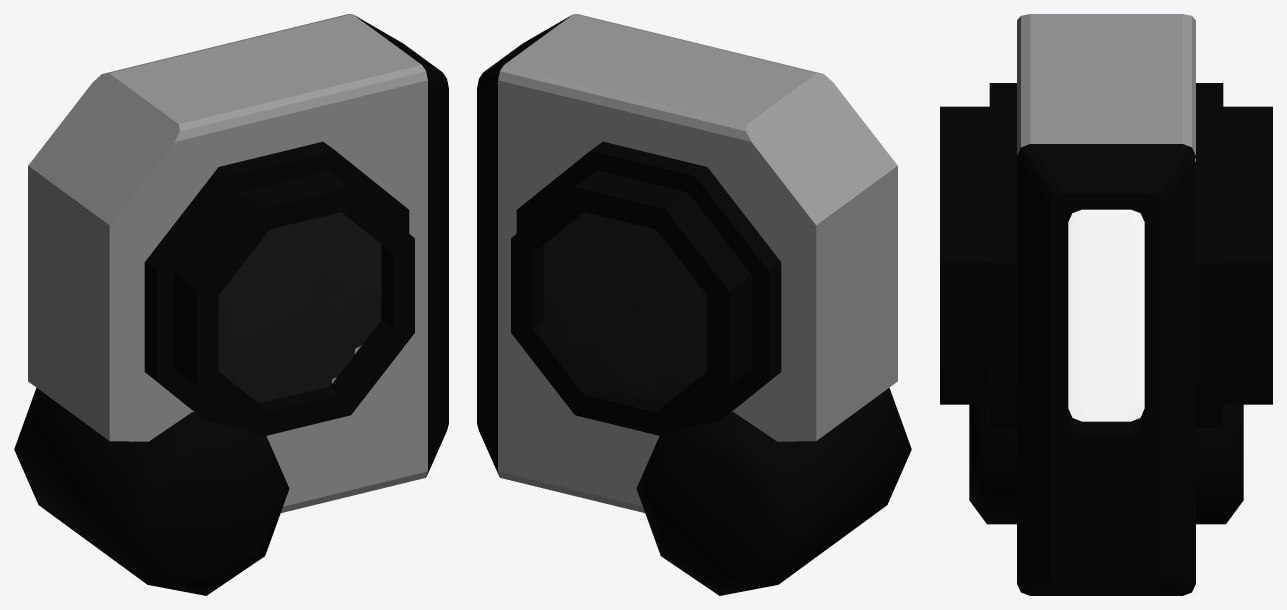
The model's file is HeadCyberpunk.glb.
3 views of the same model, side by side, from view 1: azimuth 30°, elevation 25°; view 2: azimuth 150°, elevation 25°; view 3: azimuth 270°, elevation 25° (orthographic). The views are drawn at different scales.
Visible parts, largest first — view 1: Head_04; view 2: Head_04; view 3: Head_04.
Part boxes in pixels (x1,y1,x2,y2): Head_04: [14, 14, 448, 595]; Head_04: [477, 14, 911, 595]; Head_04: [940, 14, 1272, 595].
Bounding box in the file's own units: 20.02 × 24.79 × 14.88.
3 materials, 1 textured.
